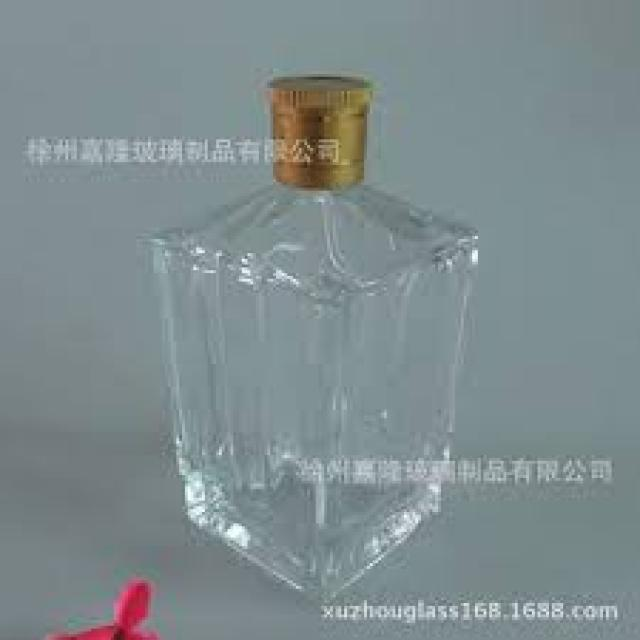glass: (145, 179, 475, 595)
metal: (267, 74, 367, 182)
